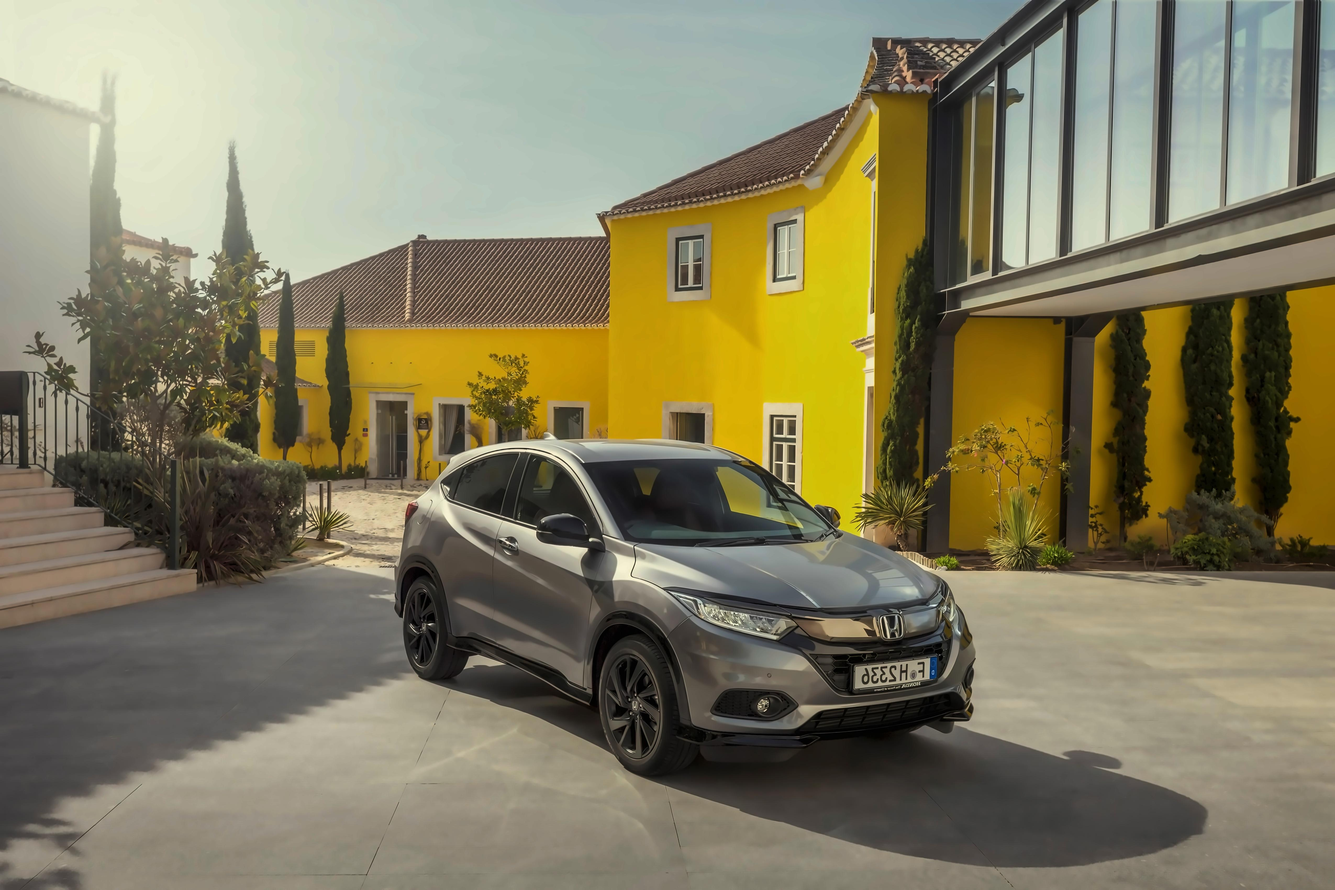Car hood: (628, 529, 945, 616)
Driver-s door - -F-R-: (491, 440, 592, 696)
Fender - -F-R-: (583, 534, 695, 691)
Fender - -R-R-: (406, 496, 436, 580)
Front bumper: (662, 618, 983, 755)
Headlight - -L-: (928, 574, 964, 632)
Headlight - -R-: (660, 585, 801, 647)
Passenger-s door - -R-R-: (429, 443, 521, 667)
Rear bumper: (388, 547, 410, 623)
Rear light - -R-: (398, 493, 418, 528)
Side bumper - -R-: (437, 620, 597, 712)
Side mirror - -L-: (798, 497, 849, 534)
Side mirror - -R-: (529, 500, 608, 560)
